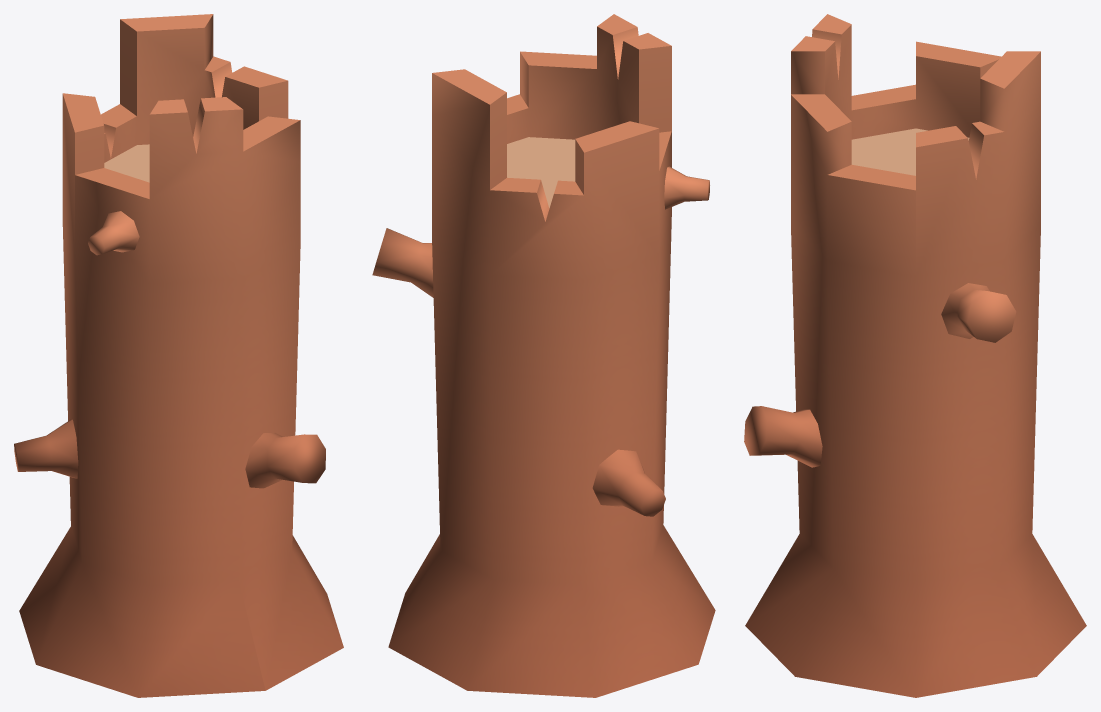
File: trunk-long.glb
3 views of the same model, side by side, from view 1: azimuth 30°, elevation 25°; view 2: azimuth 150°, elevation 25°; view 3: azimuth 270°, elevation 25° (orthographic).
Visible parts, largest first — view 1: trunk-long; view 2: trunk-long; view 3: trunk-long.
Boxes of the visible parts, x1,y1,x2,y2 form: trunk-long: [14, 14, 343, 697]; trunk-long: [372, 14, 715, 697]; trunk-long: [744, 14, 1086, 697].
Size of the model in its own units: 10.79 by 20 by 10.82.
1 material, 1 textured.
